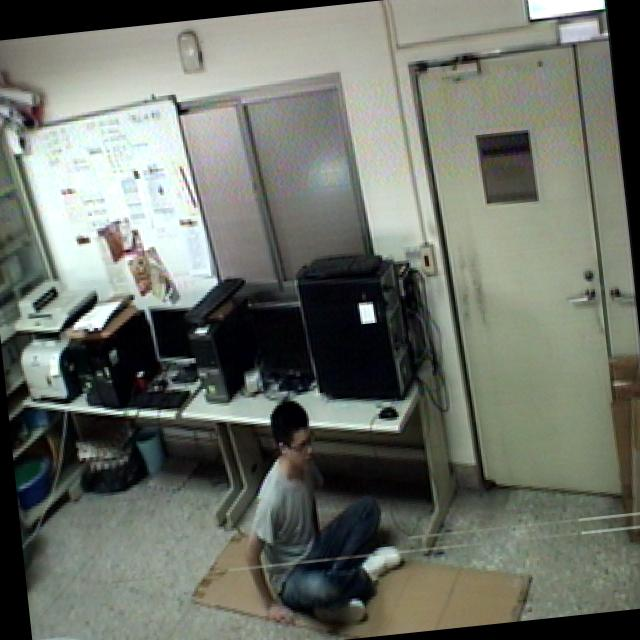sit: (226, 381, 417, 640)
